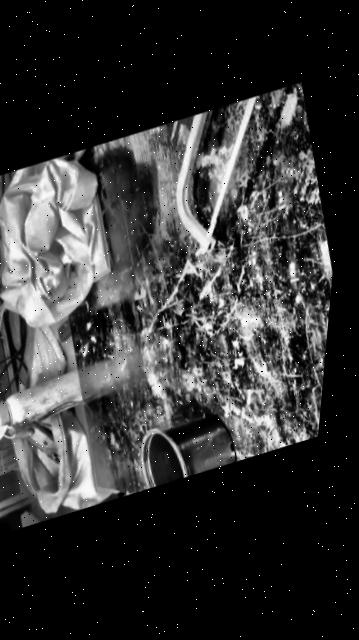pot: (131, 406, 239, 491)
